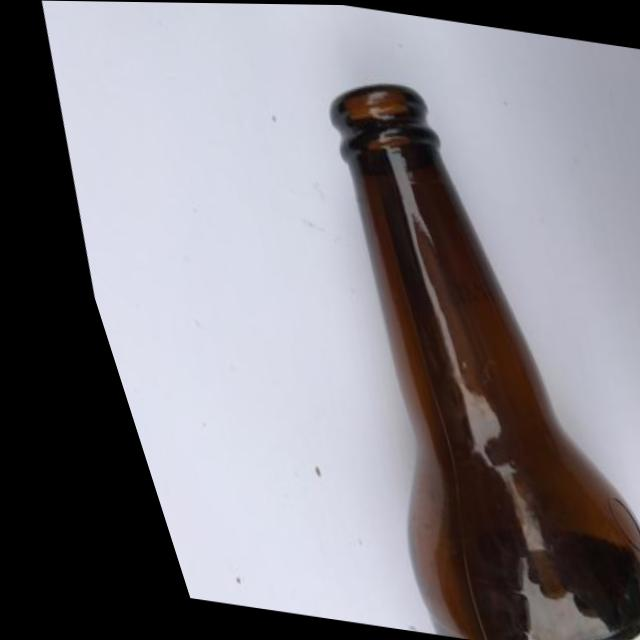glass: (138, 23, 640, 640)
